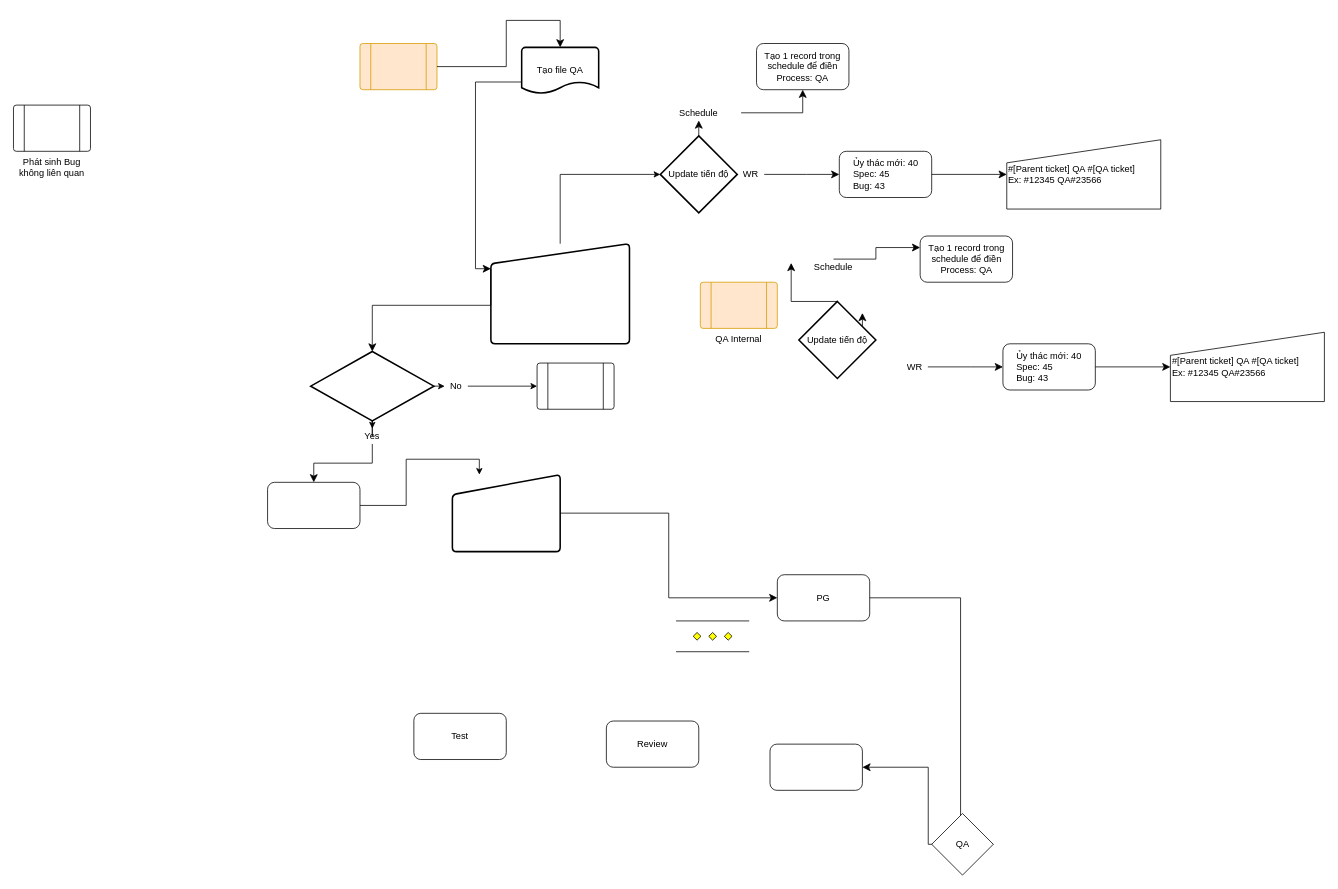
Some shapes in this 1338 by 889 pixel diagram are drawn without their labels. The shapes that lost their labels are listed below. From the top down, each one's centre as x and y in pixels, then its label:
At [398,66]: "QA External".
At [560,293]: "Tạo QA trên redmine Assign người test thứ 3 check".
At [372,385]: "Ảnh hưởng tiến độ".
At [575,385]: "Công việc trước đó".
At [313,505]: "Estimate".
At [506,512]: "Liên lạc dự định trên redmine".
At [815,766]: "UT".
